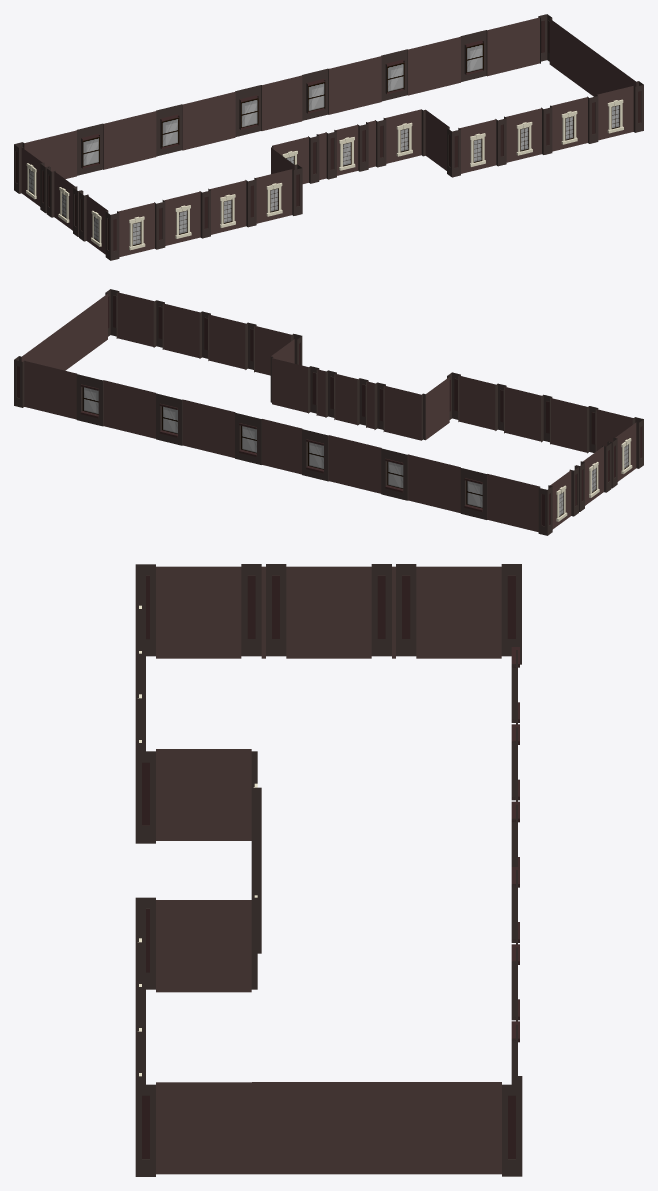
File: BuildingSmall3_3.fbx
The picture shows the model from 3 angles, top to bottom: view 1: azimuth 30°, elevation 25°; view 2: azimuth 150°, elevation 25°; view 3: azimuth 270°, elevation 25°; orthographic projection. The views are drawn at different scales.
Visible parts, largest first — view 1: BuildingSmall3_2.001; view 2: BuildingSmall3_2.001; view 3: BuildingSmall3_2.001.
Boxes of the visible parts, <box> form: BuildingSmall3_2.001: <box>14,14,643,260</box>; BuildingSmall3_2.001: <box>14,289,643,535</box>; BuildingSmall3_2.001: <box>135,564,522,1176</box>.
Size of the model in its own units: 6061 by 500 by 1901.
